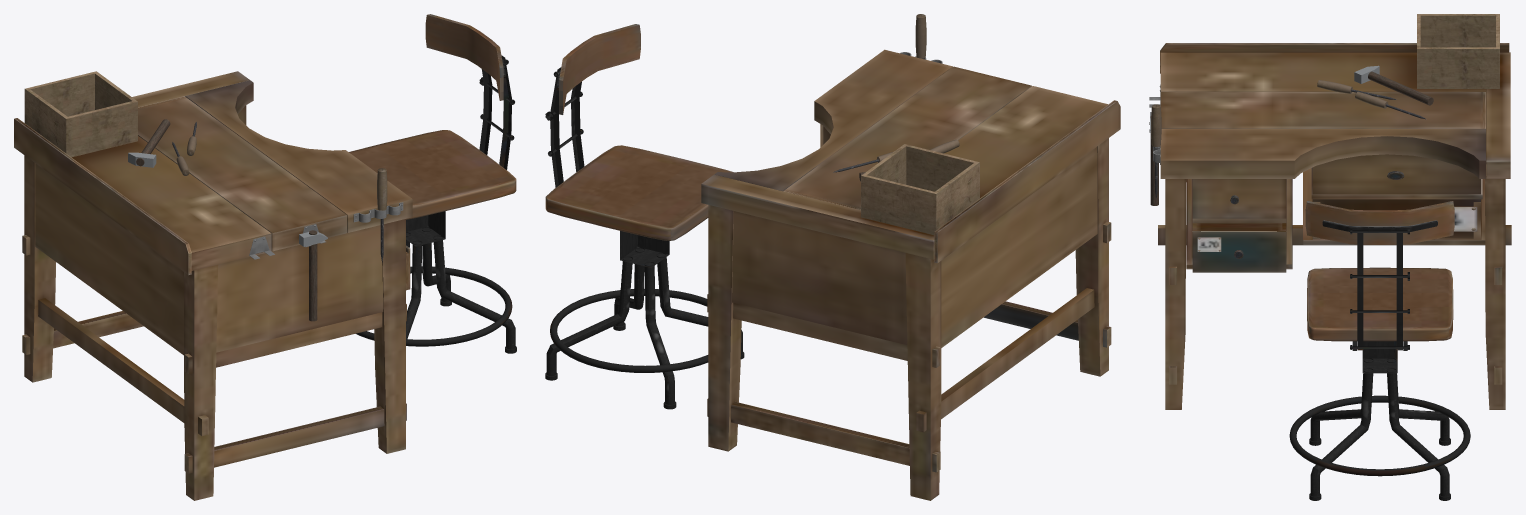
Rendered from workbench_b.glb.
The picture shows the model from 3 angles, left to right: view 1: azimuth 30°, elevation 25°; view 2: azimuth 150°, elevation 25°; view 3: azimuth 270°, elevation 25°; orthographic projection. The views are drawn at different scales.
Parts seen in each view (by area): view 1: Cube.006_aiStandardSurface1_0; view 2: Cube.006_aiStandardSurface1_0; view 3: Cube.006_aiStandardSurface1_0.
Boxes of the visible parts, x1,y1,x2,y2 form: Cube.006_aiStandardSurface1_0: (14,14,516,500); Cube.006_aiStandardSurface1_0: (545,14,1120,500); Cube.006_aiStandardSurface1_0: (1149,14,1511,500).
Size of the model in its own units: 1.52 by 1 by 1.12.
8 materials, 7 textured.
